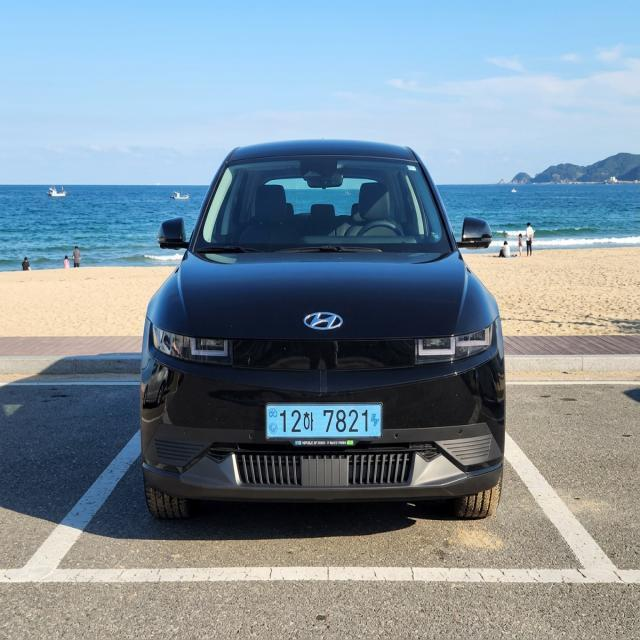car: (257, 390, 390, 463)
carev: (369, 403, 383, 442), (266, 404, 279, 443)
